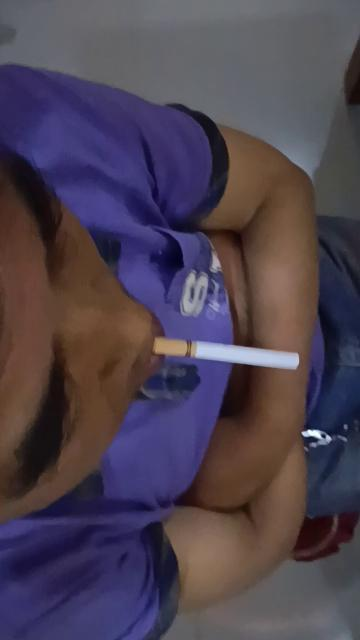Smoking: (150, 337, 302, 371)
